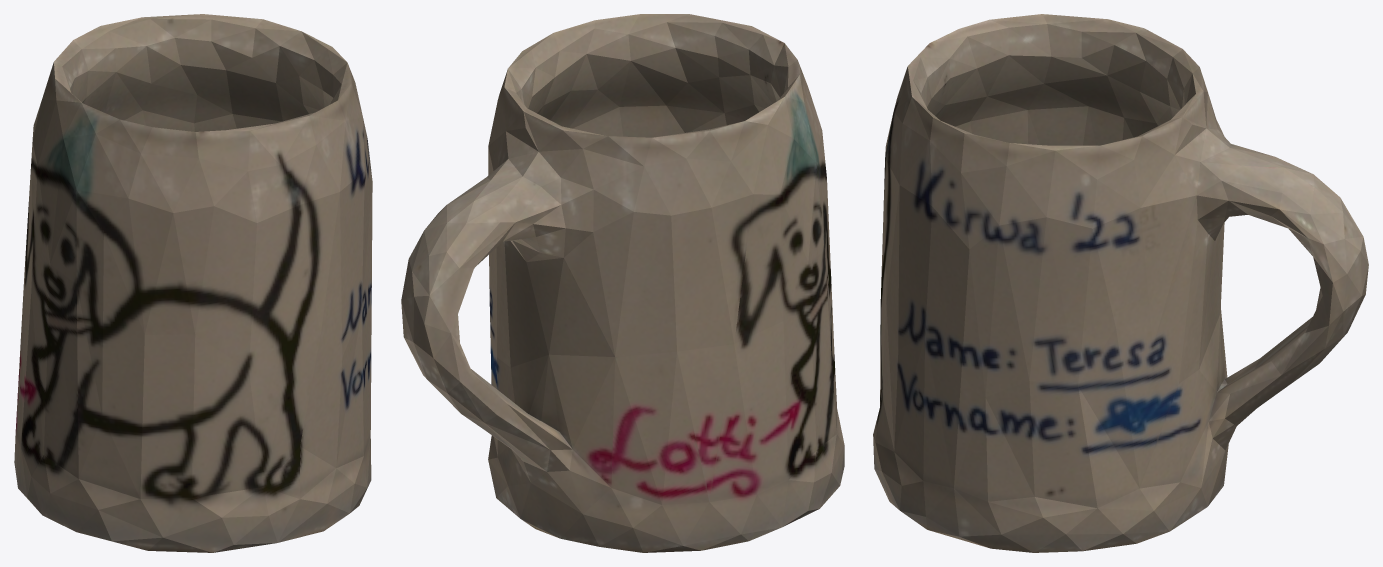
Rendered from 44633EA0-9CBD-D74C-B96C-1A5EFD30CE3C_512.glb.
3 views of the same model, side by side, from view 1: azimuth 30°, elevation 25°; view 2: azimuth 150°, elevation 25°; view 3: azimuth 270°, elevation 25° (orthographic).
Visible parts, largest first — view 1: Krug Hund_0.8k_0.5k; view 2: Krug Hund_0.8k_0.5k; view 3: Krug Hund_0.8k_0.5k.
Boxes of the visible parts, left/top/right/bottom form: Krug Hund_0.8k_0.5k: left=14, top=14, right=372, bottom=552; Krug Hund_0.8k_0.5k: left=401, top=14, right=844, bottom=552; Krug Hund_0.8k_0.5k: left=873, top=14, right=1368, bottom=552.
Bounding box in the file's own units: 0.0993 × 0.1275 × 0.1387.
1 material, 1 textured.
